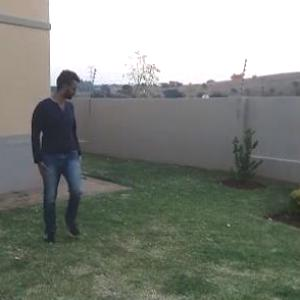follow: (28, 66, 88, 244)
